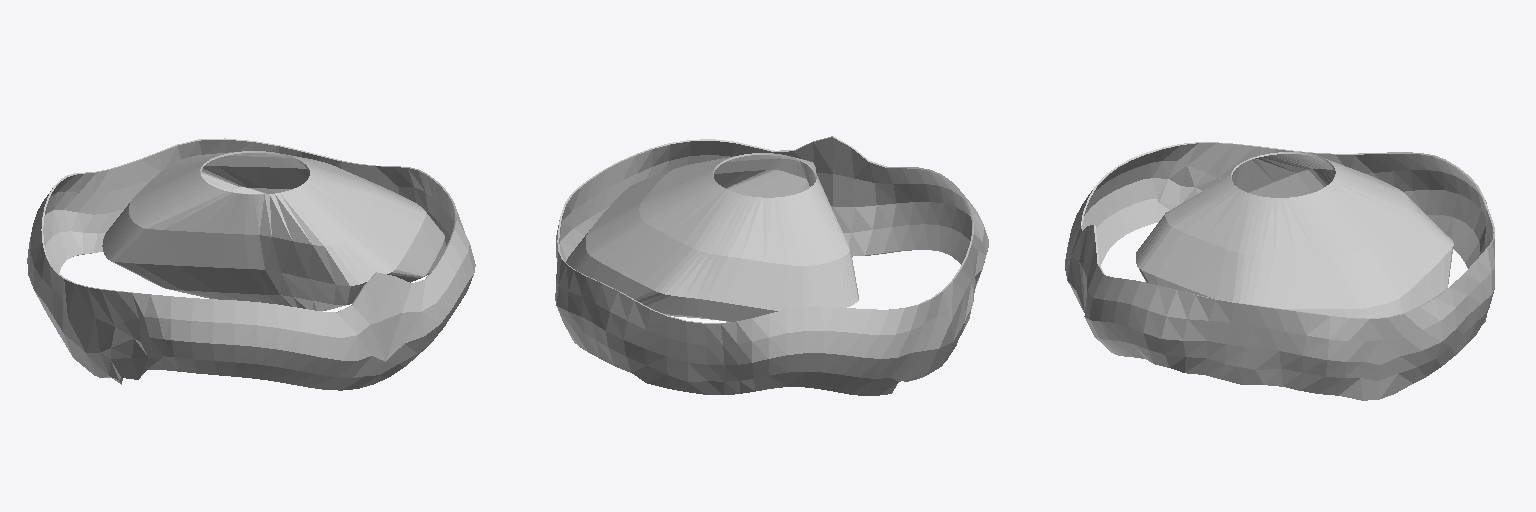
File: Icing.obj
The picture shows the model from 3 angles: view 1: azimuth 30°, elevation 25°; view 2: azimuth 150°, elevation 25°; view 3: azimuth 270°, elevation 25°; orthographic projection.
Visible parts, largest first — view 1: icing.002; view 2: icing.002; view 3: icing.002.
Part boxes in pixels (x1,y1,x2,y2): icing.002: (27, 138, 475, 390); icing.002: (555, 136, 988, 395); icing.002: (1065, 142, 1494, 400).
Size of the model in its own units: 1.21 by 0.5134 by 1.22.